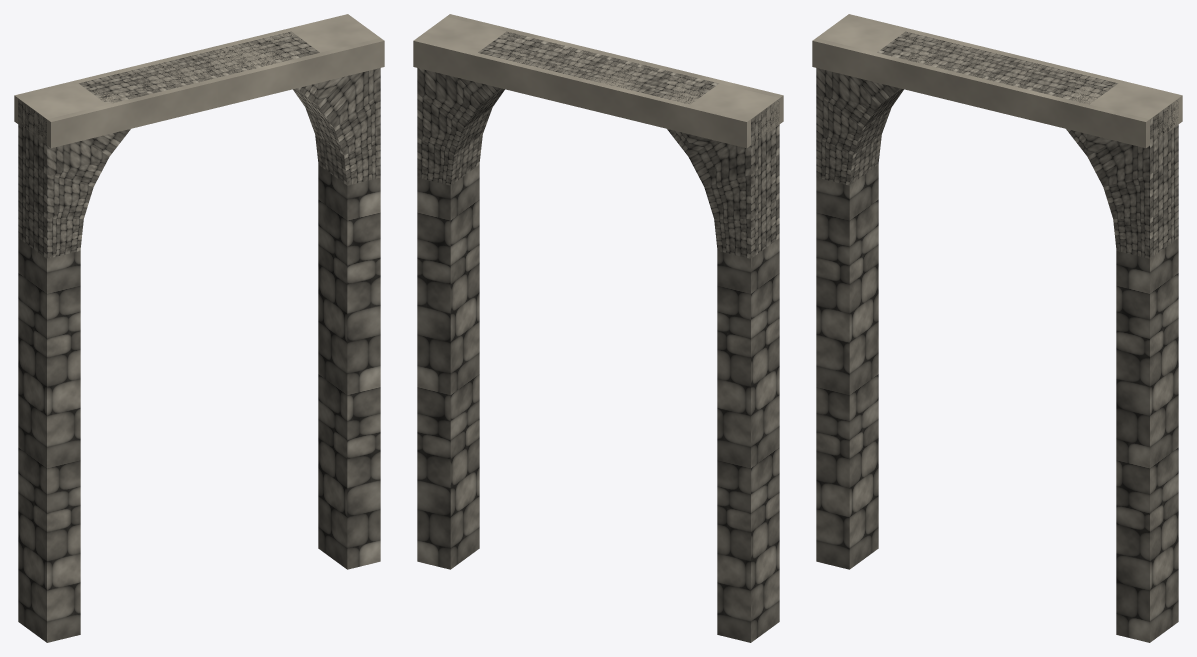
Rendered from Bridge_Stone_Arch_1.gltf.
3 views of the same model, side by side, from view 1: azimuth 30°, elevation 25°; view 2: azimuth 150°, elevation 25°; view 3: azimuth 330°, elevation 25° (orthographic).
Parts seen in each view (by area): view 1: Bridge_Stone_Arch_1; view 2: Bridge_Stone_Arch_1; view 3: Bridge_Stone_Arch_1.
Part boxes in pixels (x1,y1,x2,y2): Bridge_Stone_Arch_1: (14, 14, 384, 642); Bridge_Stone_Arch_1: (413, 14, 783, 642); Bridge_Stone_Arch_1: (812, 14, 1182, 642).
Size of the model in its own units: 2 by 3 by 0.38.
Materials: 2 (2 with a texture image).
